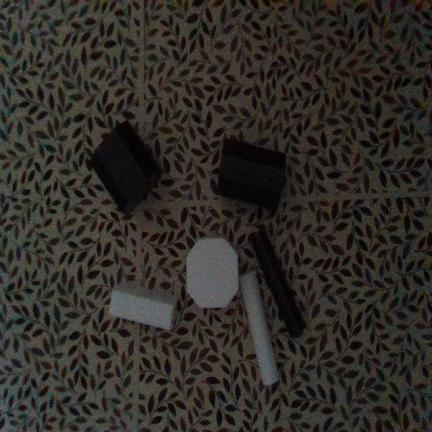Cilindro: (250, 229, 305, 338), (239, 271, 278, 385)
Paralelepipedo: (109, 284, 176, 329)
Prisma_hexagonal: (89, 121, 165, 215), (217, 139, 286, 212), (187, 237, 240, 308)
